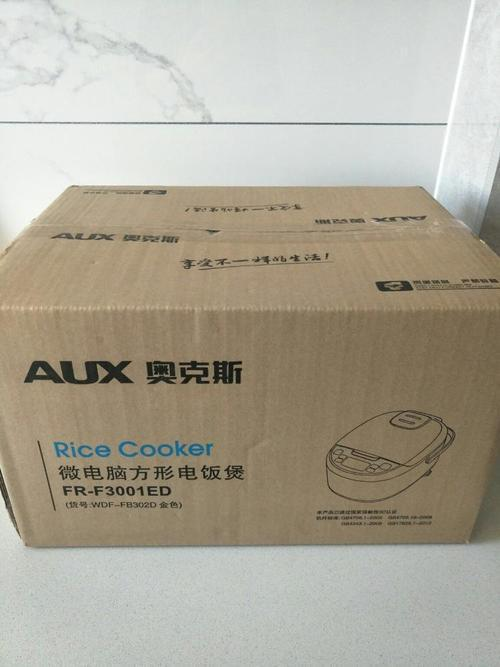cardboard: (0, 180, 500, 549)
